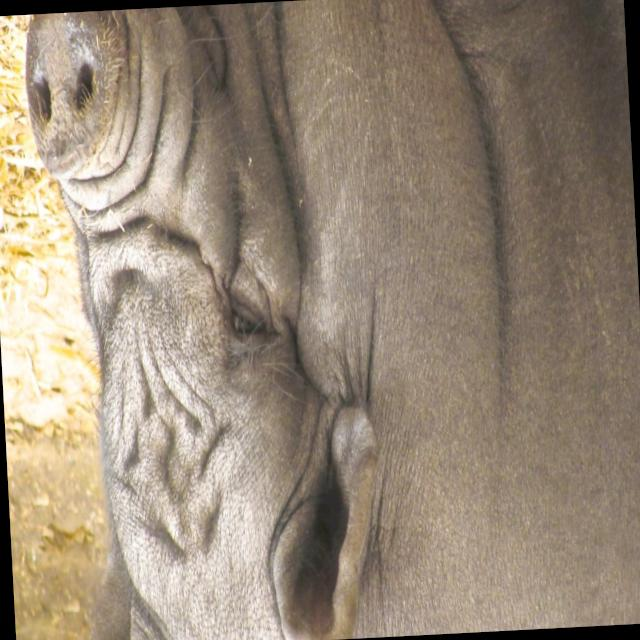pig: (22, 0, 640, 640)
